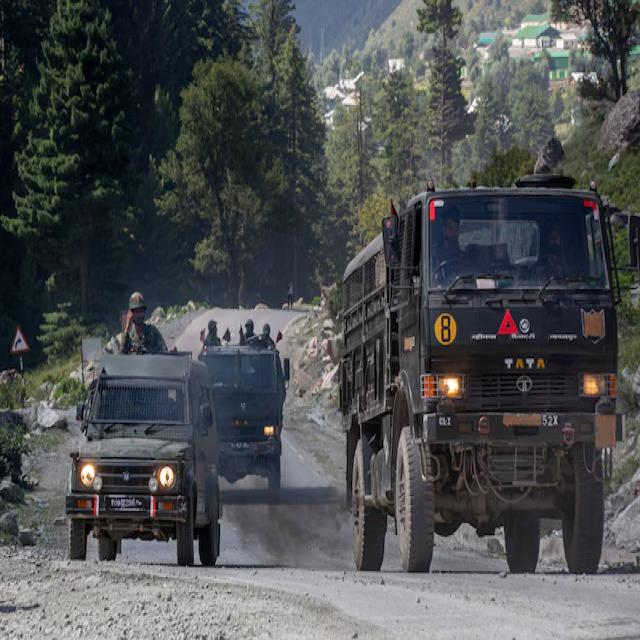military-plate: (107, 496, 147, 509)
